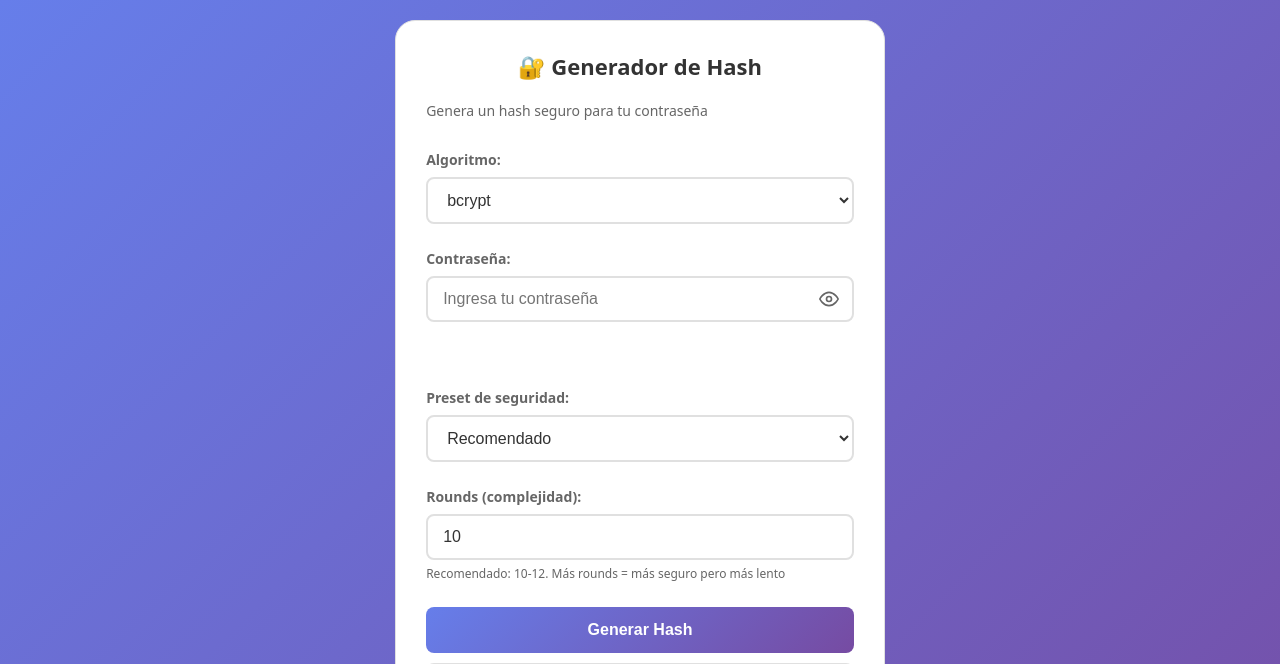
HashGenerator › muestra los parámetros completos de Argon2
The width and height of the screenshot is (1280, 664).
Select "Argon2" in the dropdown labelled "Algoritmo:" at (640, 200), box [426, 177, 854, 224]
(page scrolled)
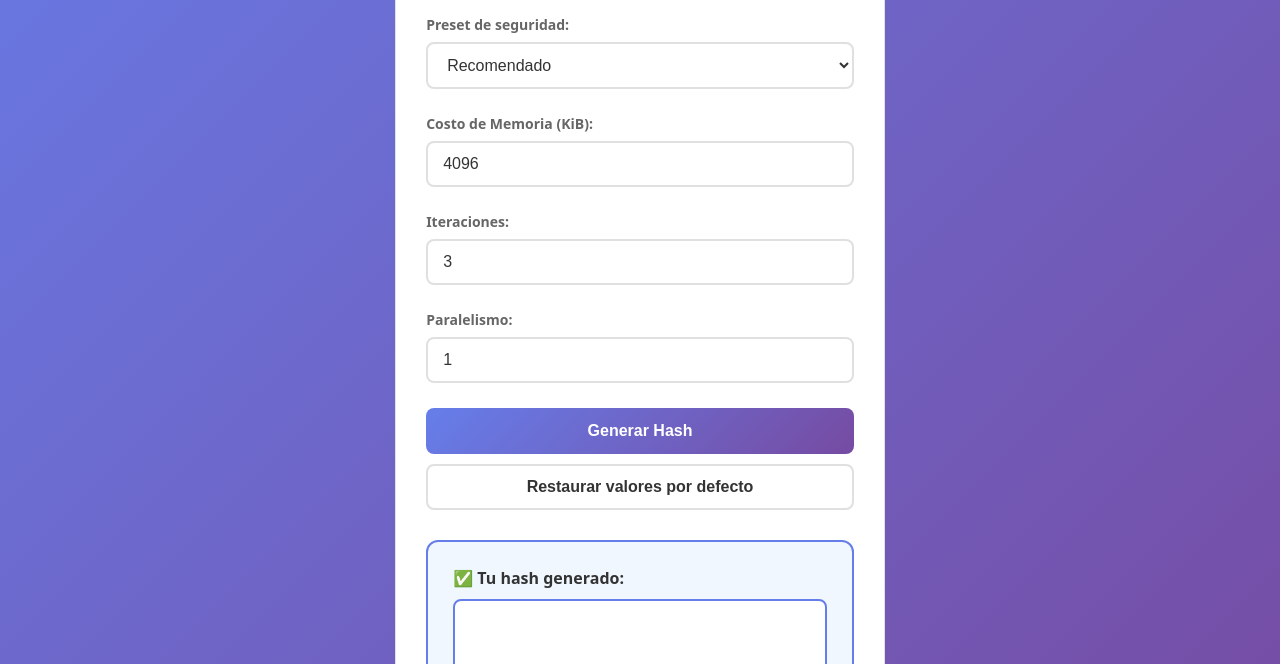
Check: the number field labelled "Costo de Memoria (KiB):" is shown, box [426, 141, 854, 187]
Check: the number field labelled "Iteraciones:" is shown, box [426, 239, 854, 285]
Check: the number field labelled "Paralelismo:" is shown, box [426, 337, 854, 383]
